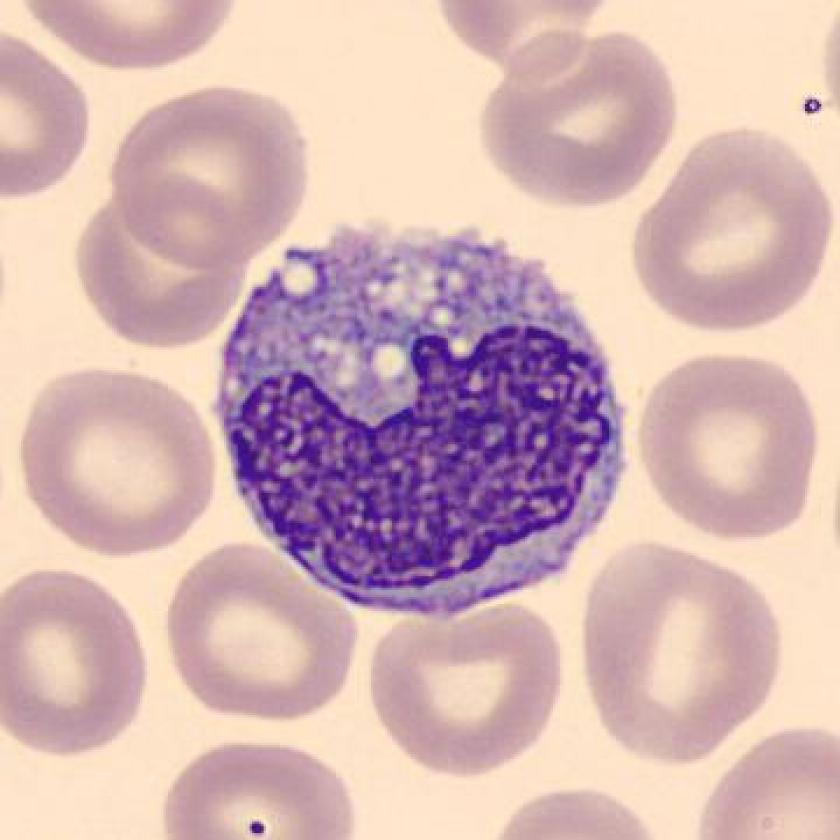monocyte: (197, 198, 650, 640)
